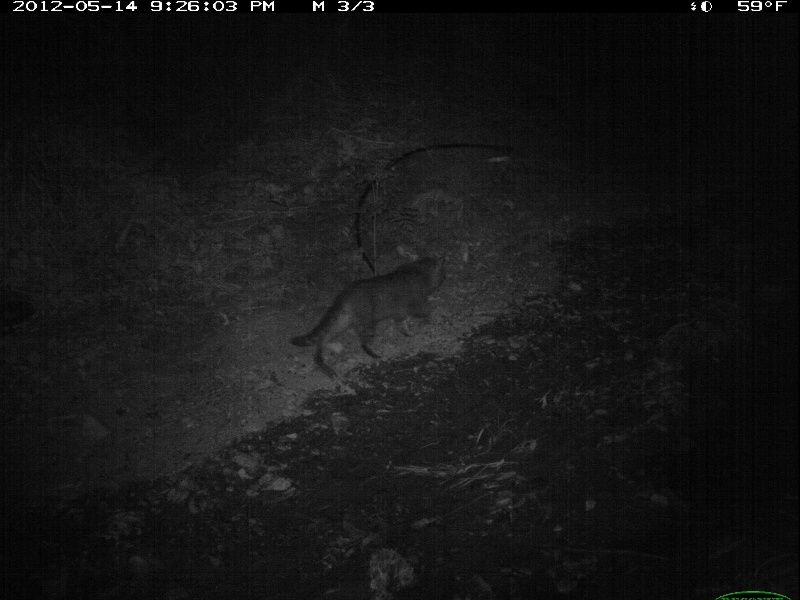cat: (293, 249, 450, 376)
